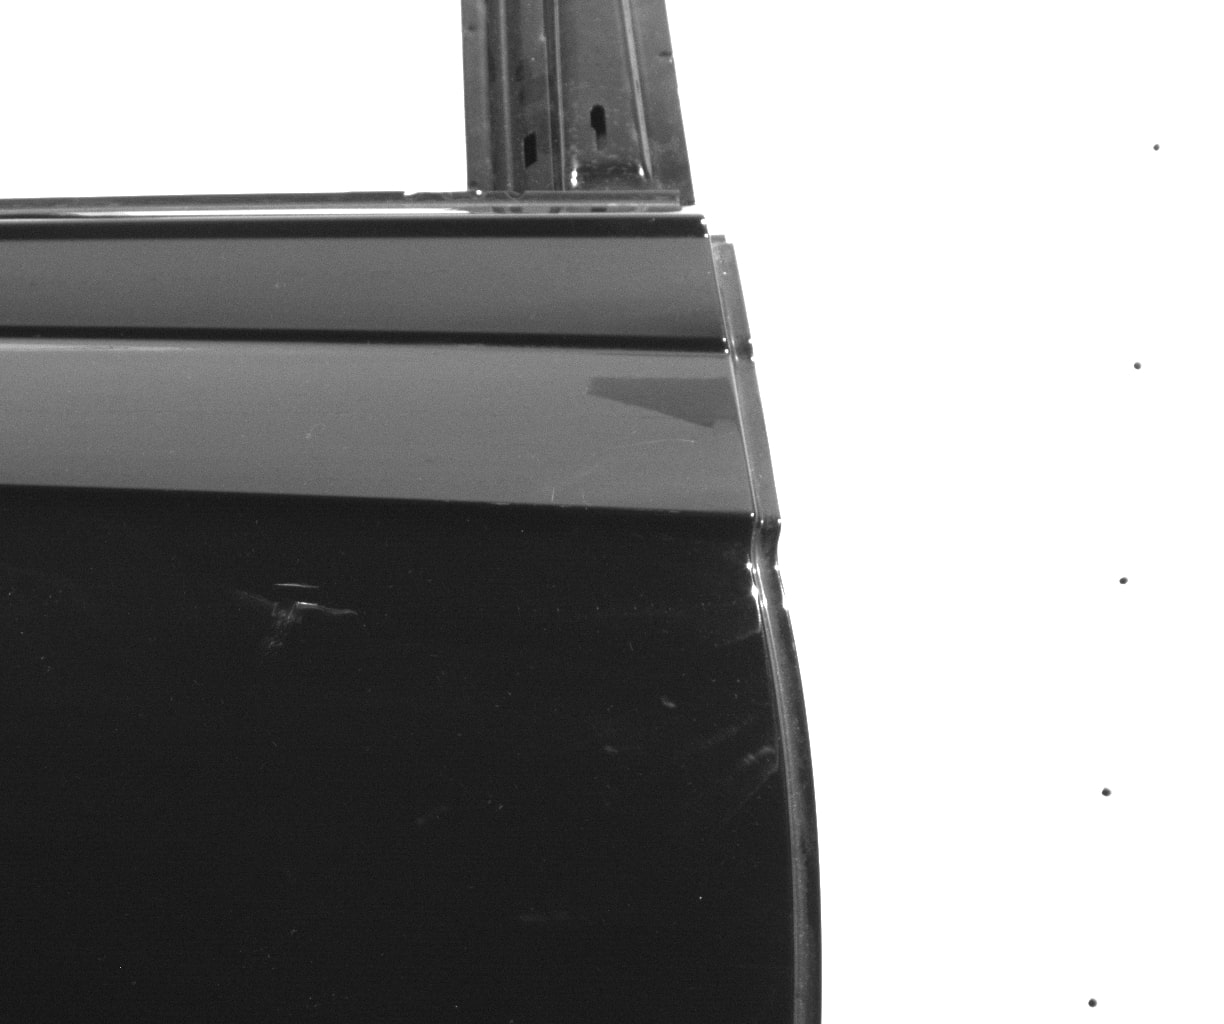scratch: (276, 581, 321, 589), (647, 439, 696, 444)
